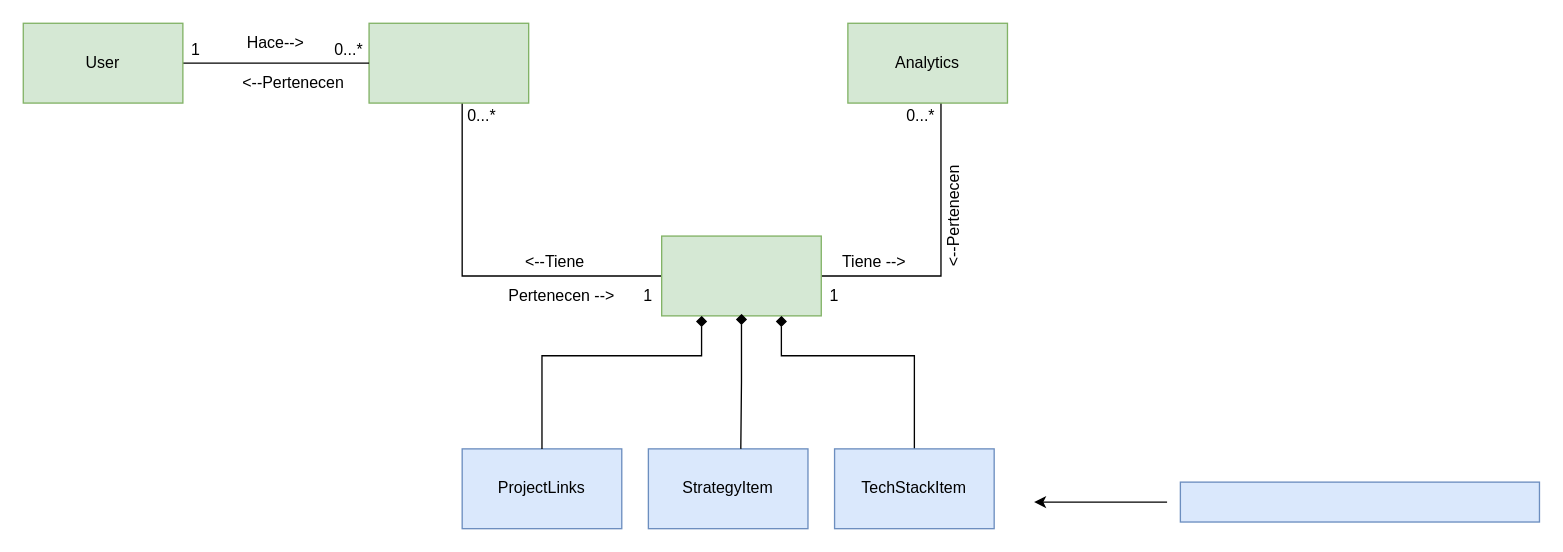
This 1563x552 diagram has some shape labels left out. The shapes that lost their labels are listed below. From the top down, each one's centre as x and y in pixels, then its label:
At point (448, 62): "Comments".
At point (740, 275): "Projects".
At point (1359, 501): "Estos vienen siendo subdocuemntos enbebidos dentro de Projects".
